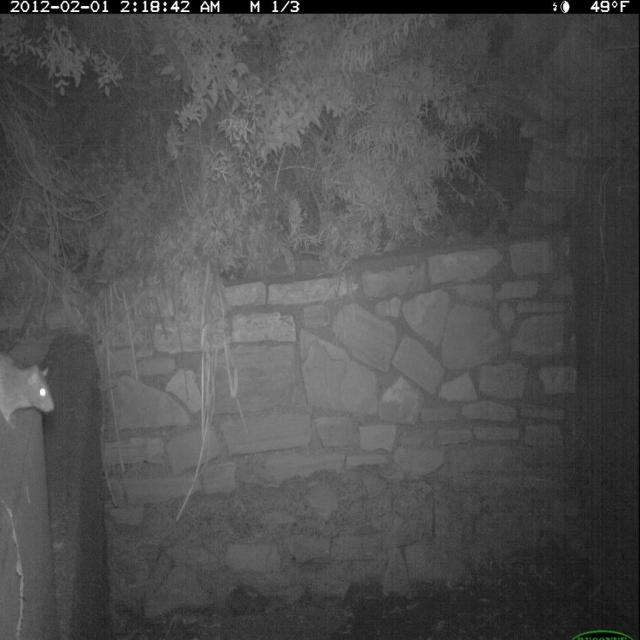rodent: (1, 346, 62, 428)
